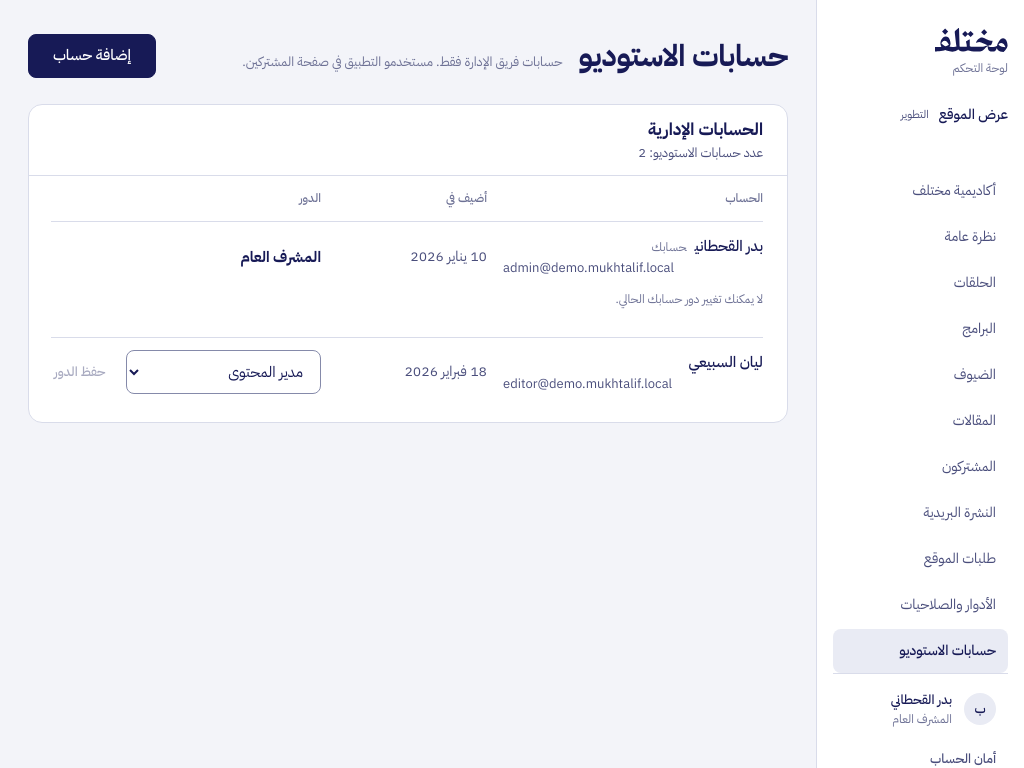
admin auth routing › lets an administrator update another Studio account role
Select "المشرف العام" in the dropdown named "دور ليان السبيعي": (224, 372) 126,350 -> 321,394
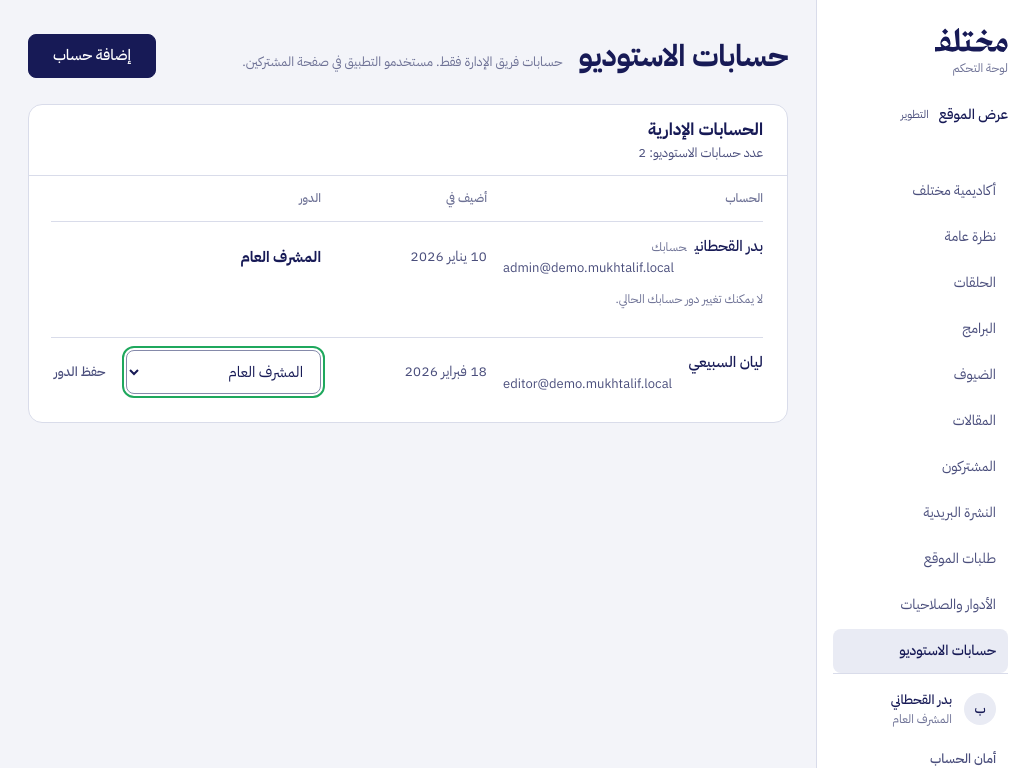
Click the button "حفظ الدور": (80, 372) 41,350 -> 118,394
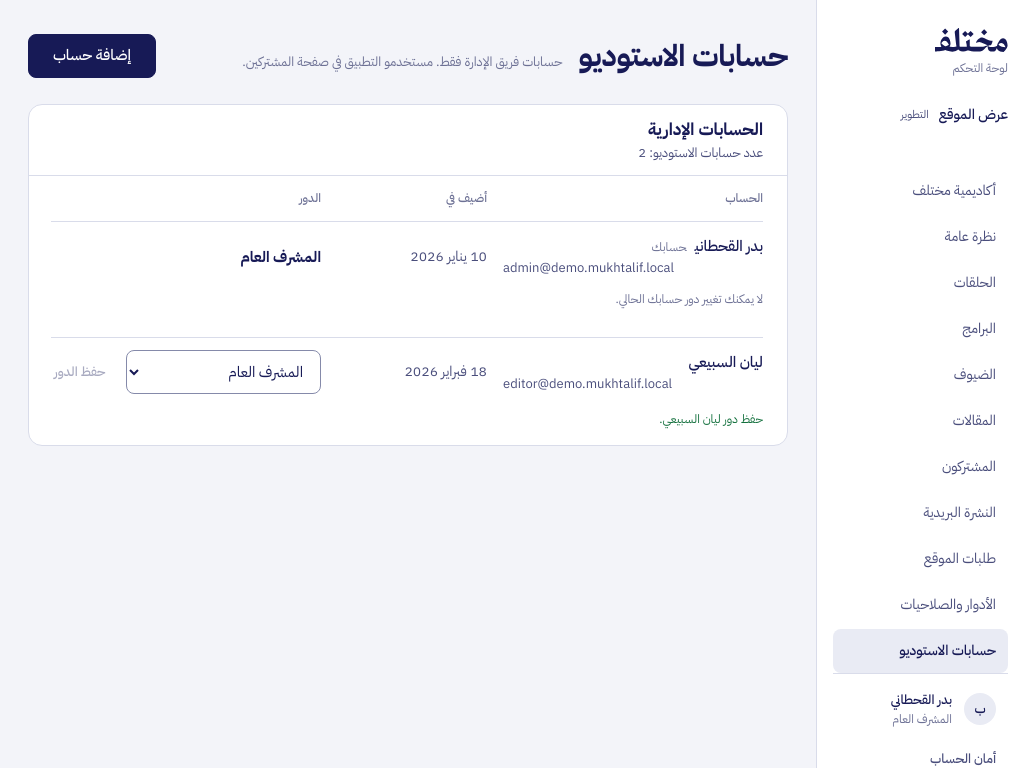
Expected: the button "حفظ الدور" is disabled, 41,350 -> 118,394
